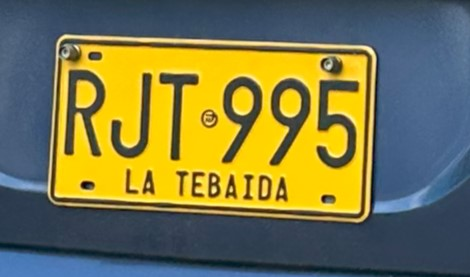number plate: (48, 35, 375, 221)
